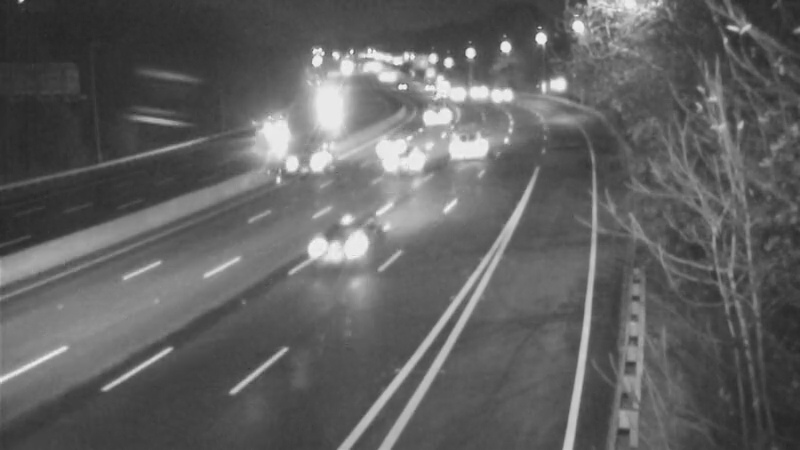vehicle: (365, 121, 445, 201), (269, 125, 349, 205), (310, 199, 390, 279), (474, 69, 524, 119), (404, 85, 454, 135), (438, 120, 488, 170), (369, 114, 419, 164), (237, 116, 287, 166)
